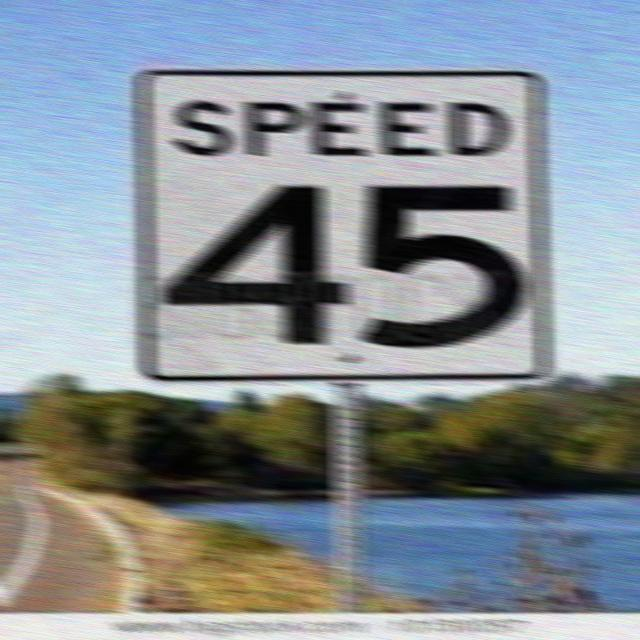speedLimit45: (133, 75, 553, 392)
